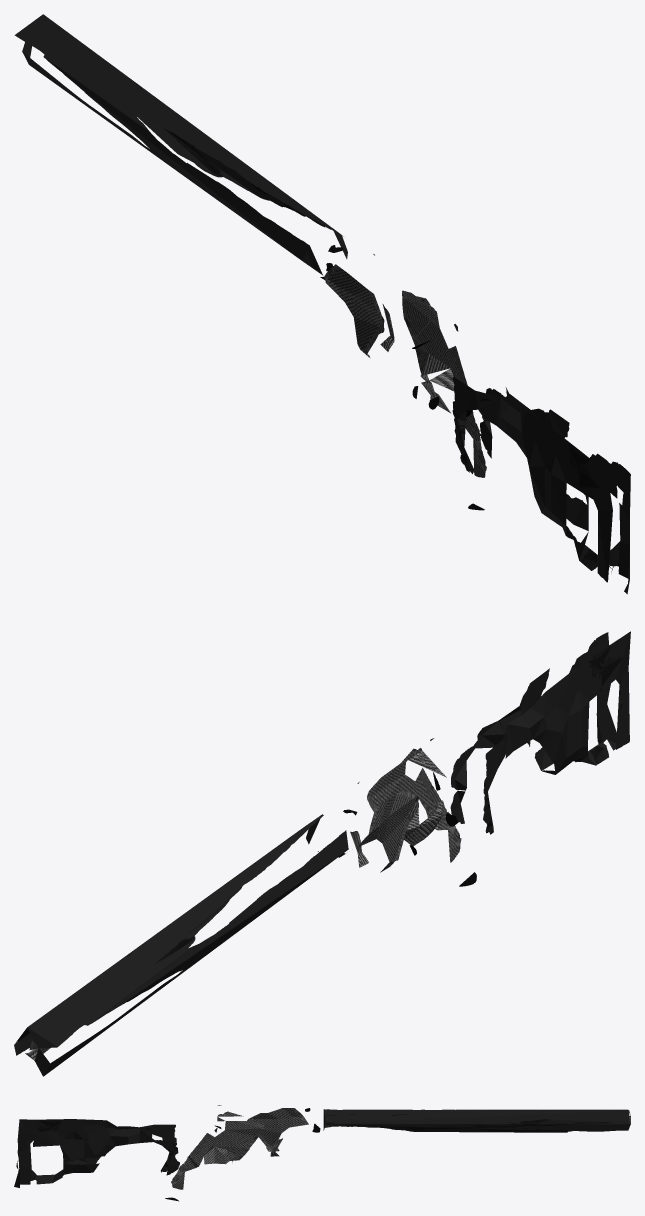
The model's file is gun_mid.fbx.
The picture shows the model from 3 angles, top to bottom: view 1: azimuth 30°, elevation 25°; view 2: azimuth 150°, elevation 25°; view 3: azimuth 270°, elevation 25°; orthographic projection. The views are drawn at different scales.
Parts seen in each view (by area): view 1: GunFIXED500, BarrelFIXED500; view 2: GunFIXED500, BarrelFIXED500; view 3: GunFIXED500, BarrelFIXED500.
Boxes of the visible parts, left/top/right/bottom form: GunFIXED500: left=320, top=245, right=630, bottom=594; BarrelFIXED500: left=14, top=14, right=347, bottom=275; GunFIXED500: left=338, top=631, right=630, bottom=886; BarrelFIXED500: left=14, top=814, right=348, bottom=1076; GunFIXED500: left=14, top=1105, right=320, bottom=1201; BarrelFIXED500: left=323, top=1109, right=630, bottom=1132.
Bounding box in the file's own units: 23.24 × 77.74 × 467.
Materials: 1 (1 with a texture image).
